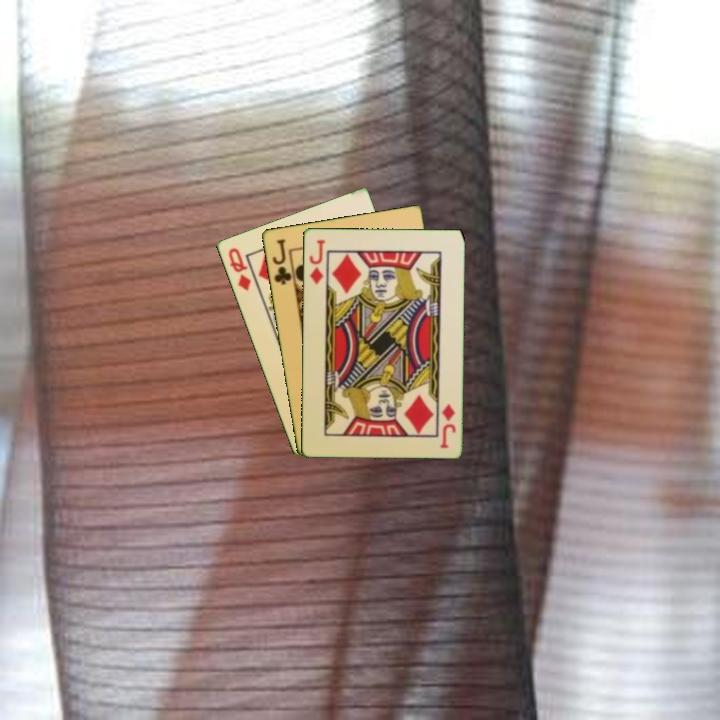Jc: (269, 235, 294, 287)
Jd: (306, 236, 328, 287), (436, 400, 458, 451)
Qd: (224, 244, 254, 294)
